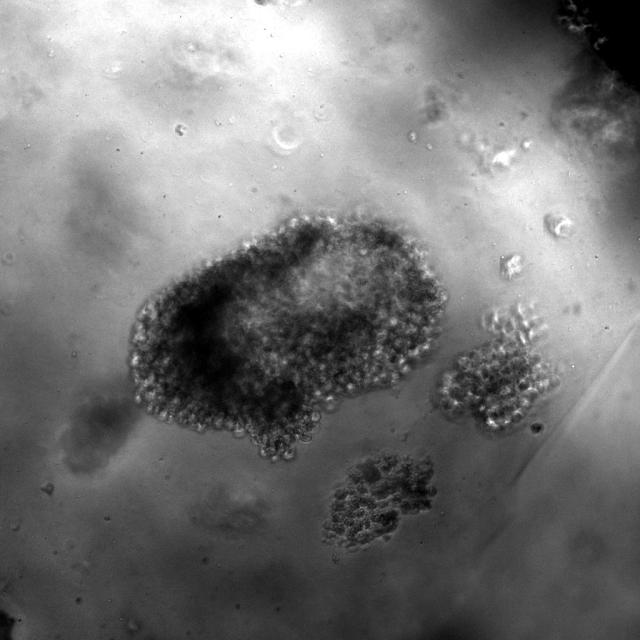organoid: (131, 215, 446, 459), (432, 303, 558, 435), (550, 0, 639, 157), (324, 453, 436, 547), (59, 376, 141, 474)
